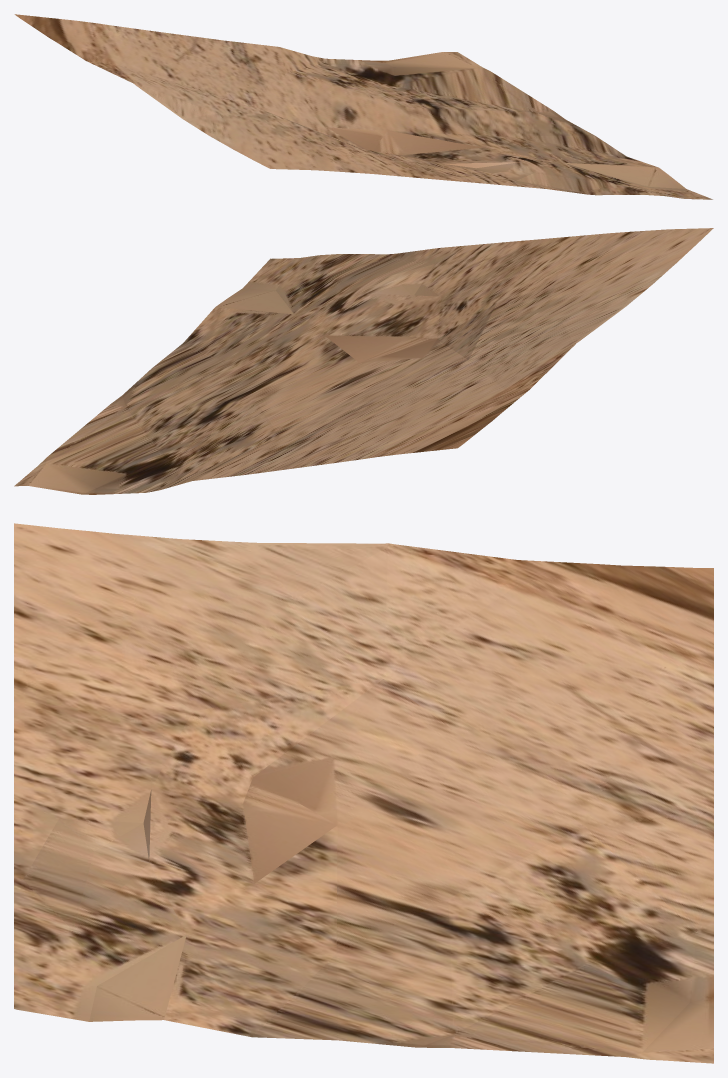
3 renders of one model, top to bottom at view 1: azimuth 30°, elevation 25°; view 2: azimuth 150°, elevation 25°; view 3: azimuth 270°, elevation 25°, orthographic. The views are drawn at different scales.
Bounding box in the file's own units: 4.18 × 1.61 × 4.18.
3 materials, 3 textured.
